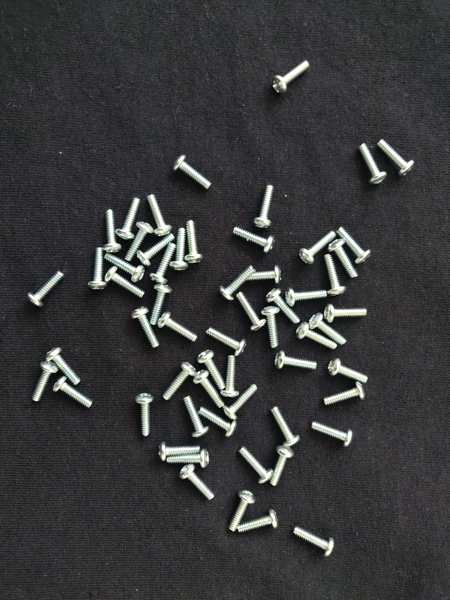shortscrew: (377, 138, 415, 177), (237, 446, 274, 485), (171, 155, 212, 189), (27, 271, 64, 308), (161, 362, 197, 400), (292, 526, 336, 557), (222, 384, 258, 421), (137, 233, 175, 268), (357, 142, 387, 186), (105, 265, 145, 298), (265, 288, 301, 324), (338, 228, 373, 265), (179, 464, 214, 501), (46, 347, 80, 385), (157, 312, 198, 343), (220, 266, 255, 302), (270, 405, 300, 447), (273, 61, 310, 95), (299, 232, 337, 265), (53, 377, 93, 408), (131, 307, 160, 349), (308, 313, 347, 344), (145, 283, 173, 326), (237, 292, 267, 332), (198, 408, 238, 438), (124, 221, 154, 261), (206, 327, 247, 356), (228, 489, 255, 533), (146, 192, 173, 236), (193, 370, 224, 408), (329, 239, 359, 278), (182, 396, 209, 439), (232, 227, 276, 253), (197, 350, 226, 389), (150, 243, 177, 284), (296, 323, 338, 349), (116, 198, 142, 240), (33, 361, 59, 402), (323, 383, 366, 407), (236, 510, 279, 534), (328, 358, 368, 383), (184, 217, 205, 264), (312, 423, 353, 447), (324, 254, 346, 296), (271, 446, 294, 486), (169, 228, 190, 271), (255, 186, 275, 229), (134, 393, 154, 436), (274, 350, 317, 370), (158, 441, 200, 461), (286, 288, 327, 308), (167, 449, 210, 468), (88, 248, 107, 291), (221, 355, 240, 398), (261, 307, 280, 349), (104, 210, 122, 254), (324, 305, 367, 323), (246, 265, 282, 283)
